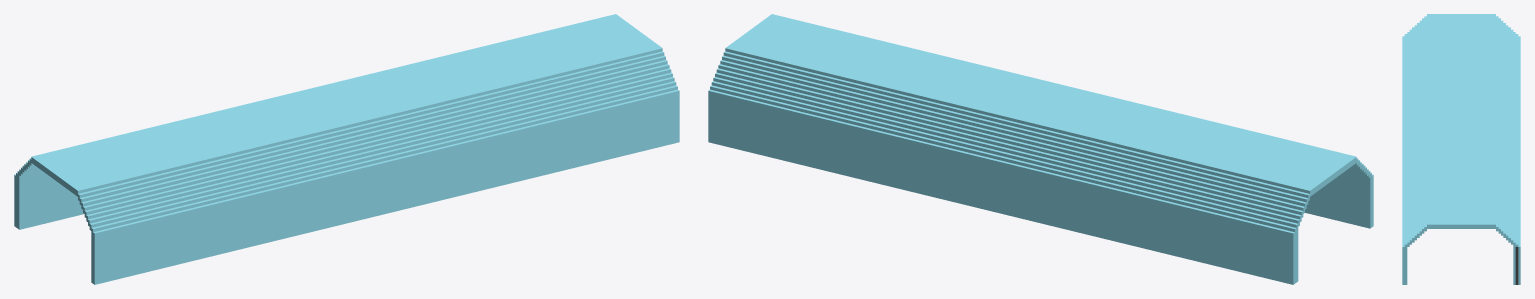
Rendered from Bridge-1.obj.
3 views of the same model, side by side, from view 1: azimuth 30°, elevation 25°; view 2: azimuth 150°, elevation 25°; view 3: azimuth 270°, elevation 25° (orthographic). The views are drawn at different scales.
Bounding box in the file's own units: 20.2 × 2.7 × 4.8.
Materials: 1 (1 with a texture image).
